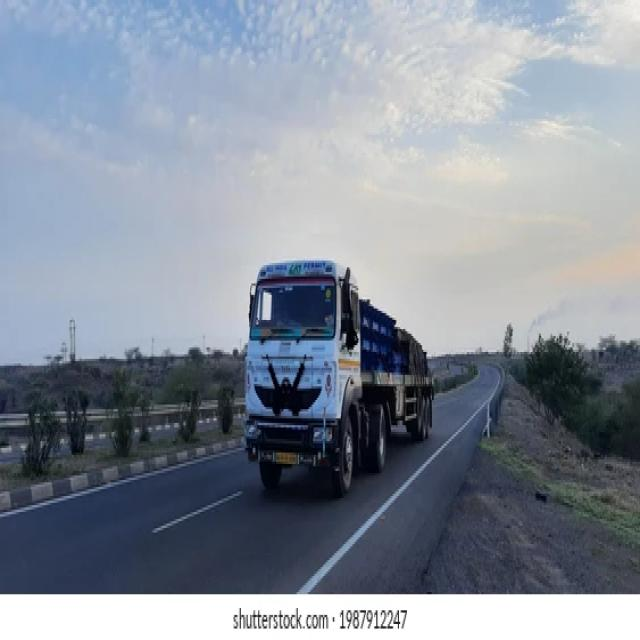Vehicles: (231, 236, 447, 509)
